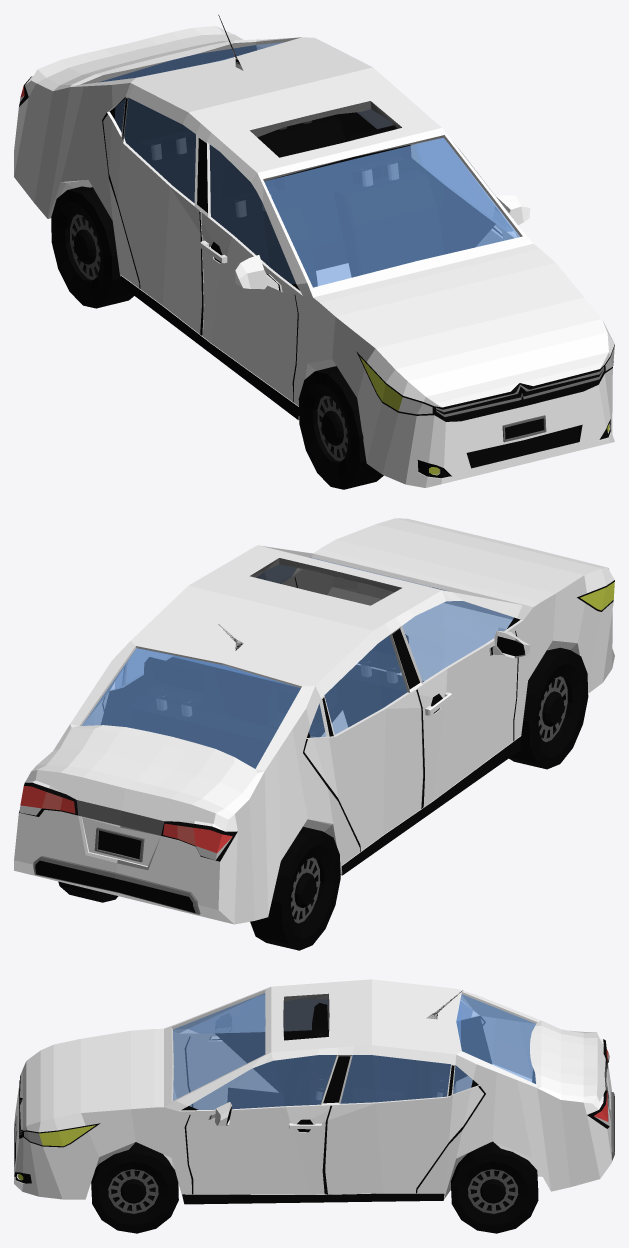
File: c4 lunge_2.glb
The picture shows the model from 3 angles, top to bottom: view 1: azimuth 30°, elevation 25°; view 2: azimuth 150°, elevation 25°; view 3: azimuth 270°, elevation 25°; orthographic projection. The views are drawn at different scales.
Visible parts, largest first — view 1: armazon, asiento adelante, asiento trasero, rueda_trasera_der, rueda_delantera_der, baul; view 2: armazon, baul, asiento trasero, rueda_trasera_der, asiento adelante, rueda_delantera_der; view 3: armazon, rueda_trasera_izq, rueda_delantera_izq, baul, asiento adelante, asiento trasero.
Boxes of the visible parts, left/top/right/bottom form: armazon: left=14, top=14, right=614, bottom=487; asiento adelante: left=214, top=125, right=443, bottom=287; asiento trasero: left=138, top=109, right=353, bottom=270; rueda_trasera_der: left=51, top=186, right=134, bottom=308; rueda_delantera_der: left=298, top=366, right=383, bottom=489; baul: left=37, top=26, right=257, bottom=85; armazon: left=14, top=518, right=614, bottom=924; baul: left=35, top=725, right=257, bottom=823; asiento trasero: left=129, top=657, right=326, bottom=768; rueda_trasera_der: left=250, top=826, right=340, bottom=950; asiento adelante: left=213, top=634, right=423, bottom=736; rueda_delantera_der: left=509, top=647, right=588, bottom=769; armazon: left=14, top=979, right=614, bottom=1204; rueda_trasera_izq: left=450, top=1141, right=538, bottom=1233; rueda_delantera_izq: left=91, top=1142, right=178, bottom=1233; baul: left=530, top=1021, right=605, bottom=1101; asiento adelante: left=227, top=1003, right=327, bottom=1108; asiento trasero: left=351, top=1060, right=447, bottom=1102.
Bounding box in the file's own units: 1.94 × 1.77 × 4.74.
